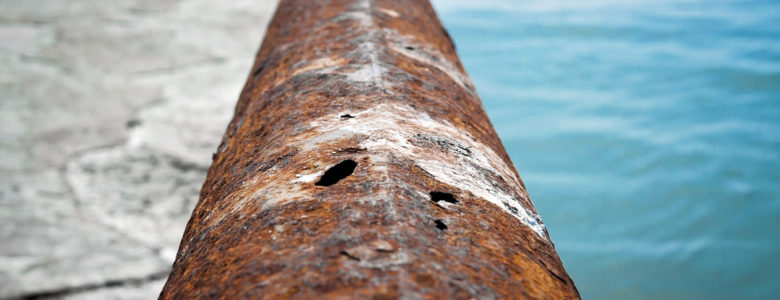hole: (308, 154, 364, 194), (424, 176, 464, 210), (429, 216, 460, 238), (400, 37, 421, 58), (339, 107, 359, 122)
